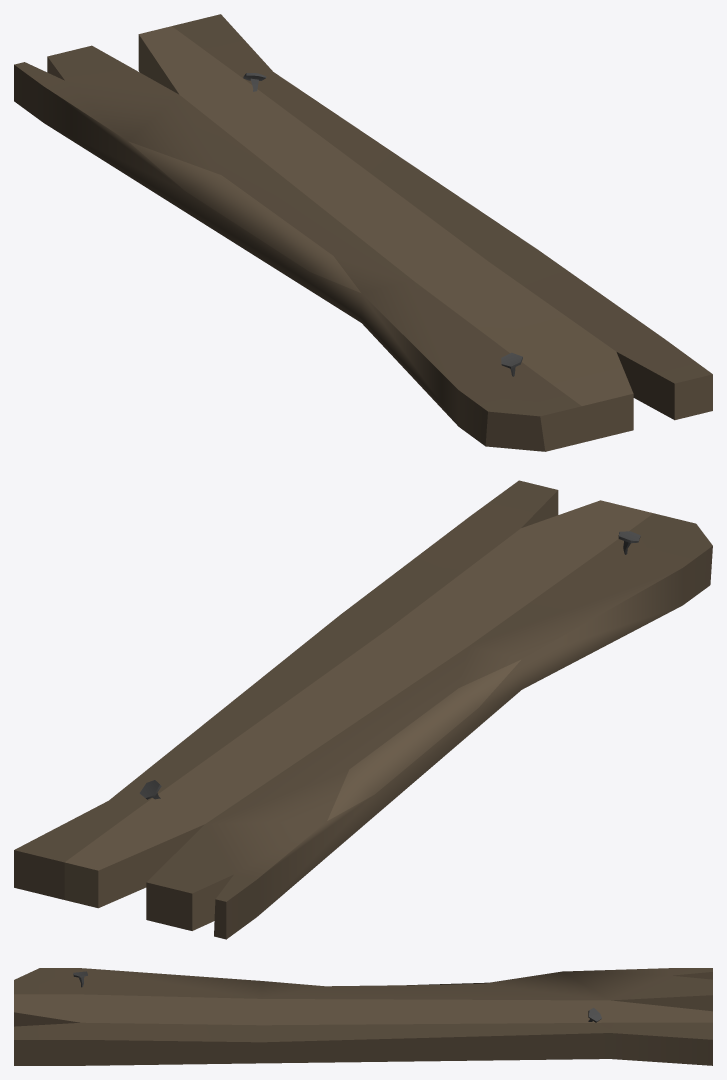
Rendered from Zwerfhout_1.fbx.
3 renders of one model, top to bottom at view 1: azimuth 30°, elevation 25°; view 2: azimuth 150°, elevation 25°; view 3: azimuth 270°, elevation 25°, orthographic. The views are drawn at different scales.
Parts seen in each view (by area): view 1: Zwerfhout_1; view 2: Zwerfhout_1; view 3: Zwerfhout_1.
Boxes of the visible parts, x1,y1,x2,y2 form: Zwerfhout_1: [14, 14, 712, 451]; Zwerfhout_1: [14, 480, 712, 939]; Zwerfhout_1: [14, 968, 712, 1065].
Bounding box in the file's own units: 3.02 × 0.7922 × 12.45.
